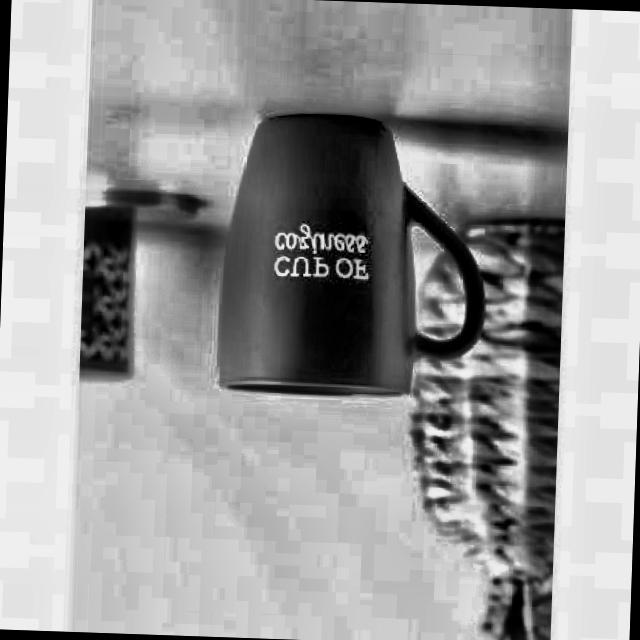Mug: (215, 107, 492, 404)
